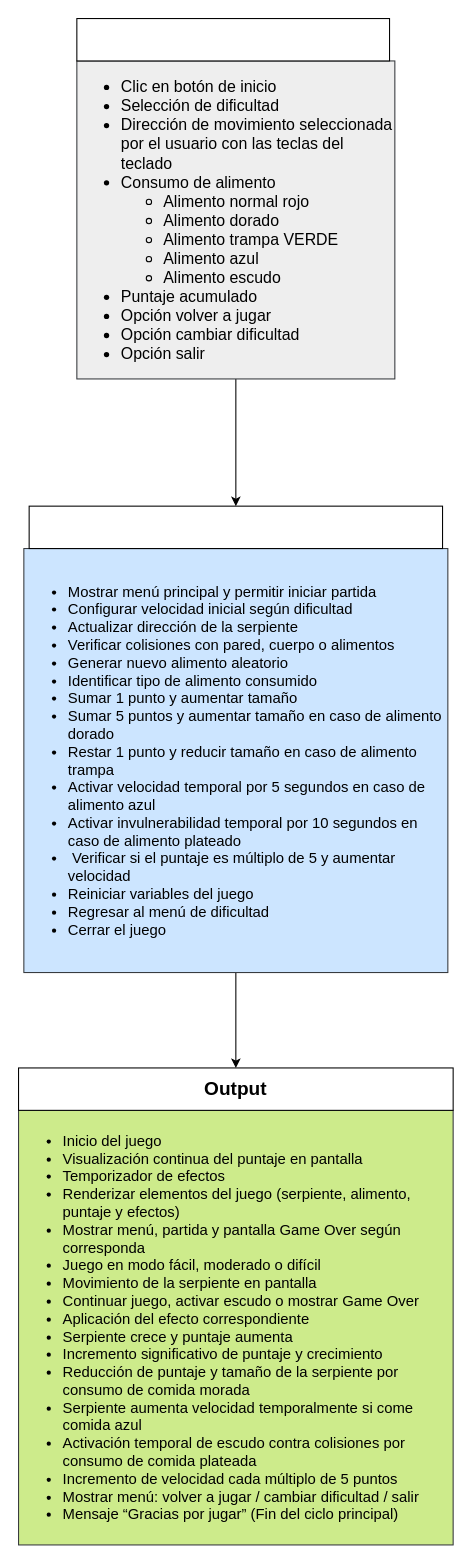
Image size: 472x1563. Some labels were removed from this diagram. Here are the shapes that lost their labels. From the top down, the centre of each, then its label:
[233,39]: Input
[235,527]: Process
